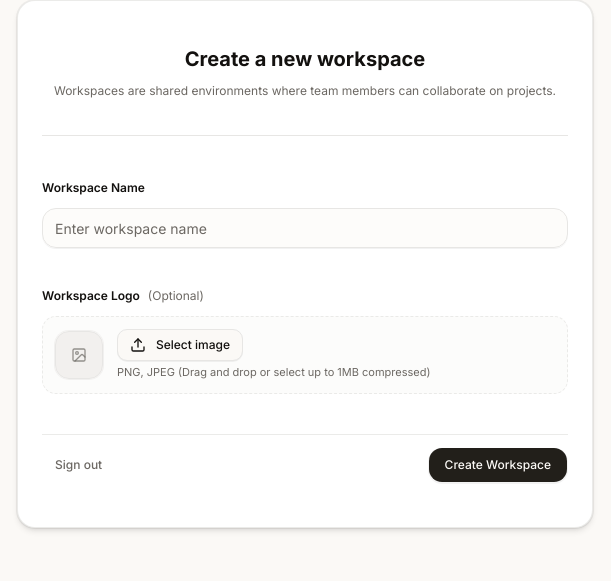
Scenario: WorkspaceForm component › validates form values and shows error on validation failure
The image size is (611, 581).
Click the button "Create Workspace" at (498, 465), box x1=428 y1=447 x2=568 y2=483
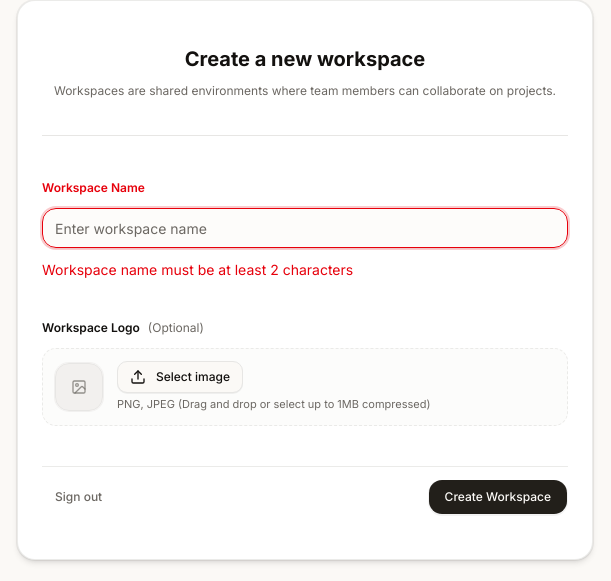
Expected: the text "Workspace name must be at least 2 characters" is shown, x1=42 y1=261 x2=353 y2=278
